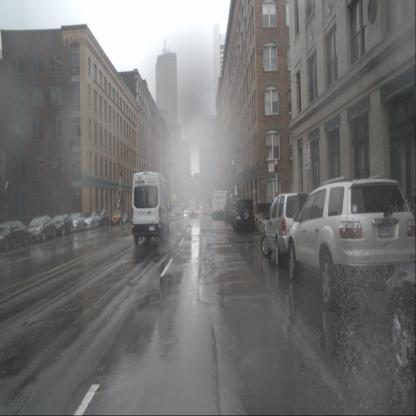vehicle-car: (288, 179, 416, 307), (262, 192, 320, 266), (131, 172, 169, 245), (0, 220, 30, 252), (26, 216, 56, 242), (233, 198, 255, 233), (50, 214, 74, 236), (67, 213, 86, 233), (81, 212, 100, 230), (224, 199, 238, 221), (93, 210, 110, 228), (110, 210, 124, 226), (119, 213, 130, 225)
vehicle-truck: (212, 190, 226, 219), (188, 198, 198, 218)
